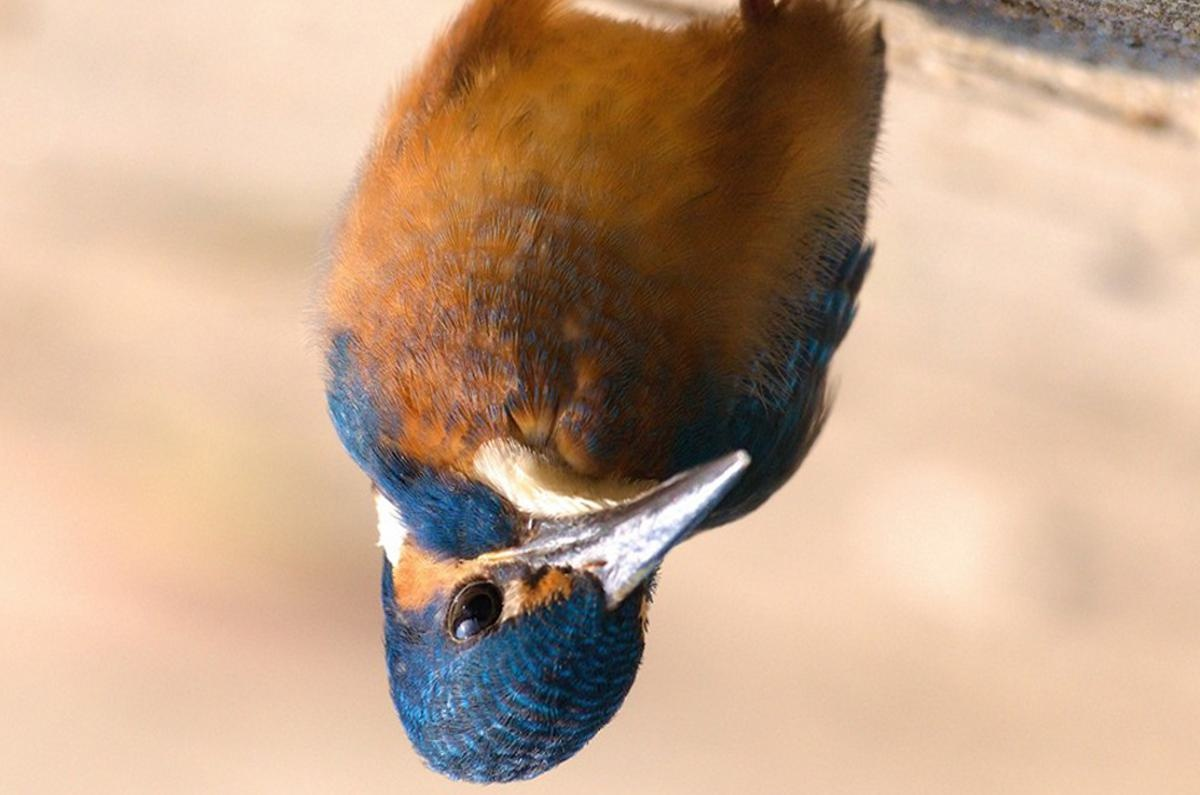kingfisher: (312, 1, 885, 788)
